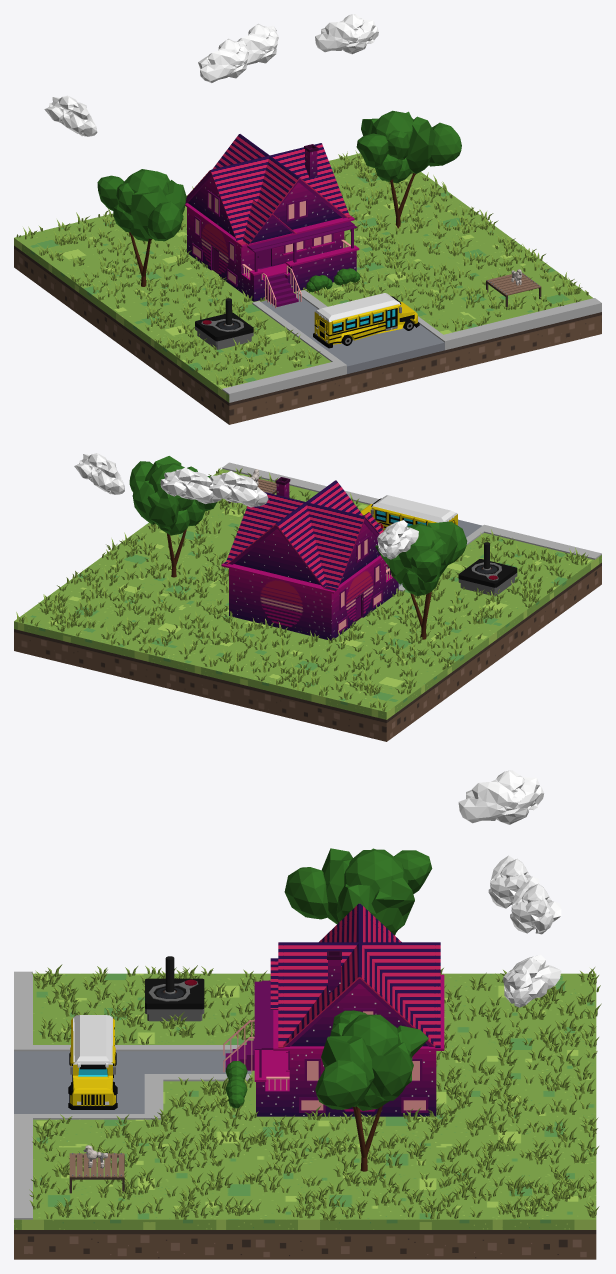
3 views of the same model, one above another, from view 1: azimuth 30°, elevation 25°; view 2: azimuth 150°, elevation 25°; view 3: azimuth 270°, elevation 25° (orthographic). The views are drawn at different scales.
Visible parts, largest first — view 1: Cube.006, Cube.156, Circle.012_Grass_0.192, Cube.007, tree, tree.001, VEHICLES_SCHOOL_BUS, OBJRANDOM_JOYSTICK, Cube.009; view 2: Cube.006, Cube.156, Circle.012_Grass_0.192, Cube.007, tree.001, tree, VEHICLES_SCHOOL_BUS, OBJRANDOM_JOYSTICK; view 3: Cube.006, Circle.012_Grass_0.192, Cube.156, tree, Cube.007, tree.001, VEHICLES_SCHOOL_BUS, OBJRANDOM_JOYSTICK, Cube.009.
Boxes of the visible parts, box(x1,y1,x2,y2) form: Cube.006: box(14, 153, 601, 424); Cube.156: box(185, 134, 359, 308); Circle.012_Grass_0.192: box(16, 150, 588, 386); Cube.007: box(44, 14, 378, 136); tree: box(356, 110, 461, 228); tree.001: box(97, 169, 186, 286); VEHICLES_SCHOOL_BUS: box(313, 293, 419, 348); OBJRANDOM_JOYSTICK: box(195, 298, 253, 349); Cube.009: box(486, 272, 541, 306); Cube.006: box(14, 462, 601, 741); Cube.156: box(221, 477, 398, 640); Circle.012_Grass_0.192: box(16, 468, 588, 711); Cube.007: box(74, 453, 418, 559); tree.001: box(375, 521, 467, 639); tree: box(129, 456, 216, 577); VEHICLES_SCHOOL_BUS: box(360, 495, 457, 530); OBJRANDOM_JOYSTICK: box(458, 542, 517, 596); Cube.006: box(14, 971, 596, 1259); Circle.012_Grass_0.192: box(29, 964, 601, 1220); Cube.156: box(223, 903, 444, 1116); tree: box(315, 1010, 428, 1171); Cube.007: box(458, 770, 561, 1007); tree.001: box(284, 848, 432, 935); VEHICLES_SCHOOL_BUS: box(68, 1015, 117, 1109); OBJRANDOM_JOYSTICK: box(145, 956, 204, 1021); Cube.009: box(69, 1153, 124, 1193).
Bounding box in the file's own units: 4071 × 2153 × 4040.
41 materials, 5 textured.
